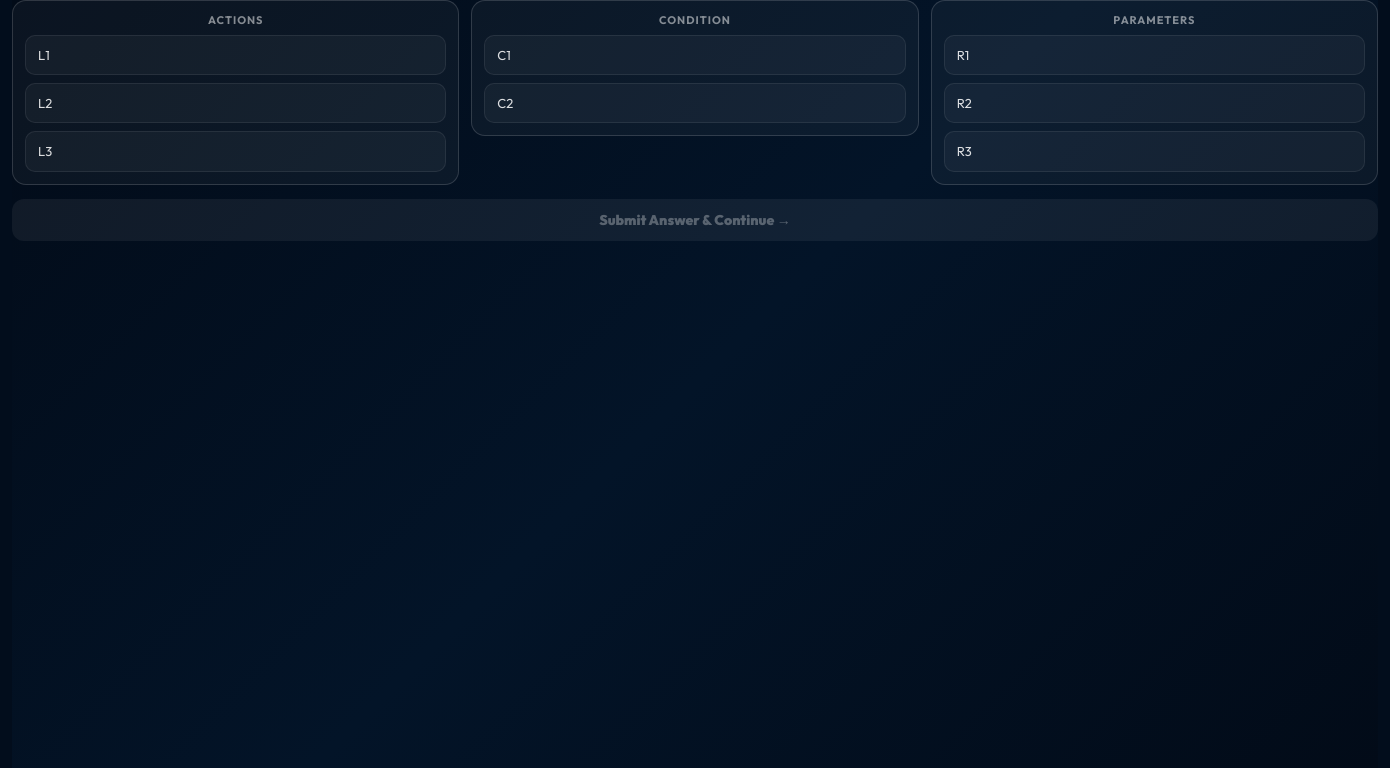
BowTieCard › Submit is disabled until all panels are filled to required count
Expected: the button "Submit Answer & Continue →" is disabled, 12,199 -> 1378,241
Click the button named "Actions : L1" at (44, 55), box 25,35 -> 446,75
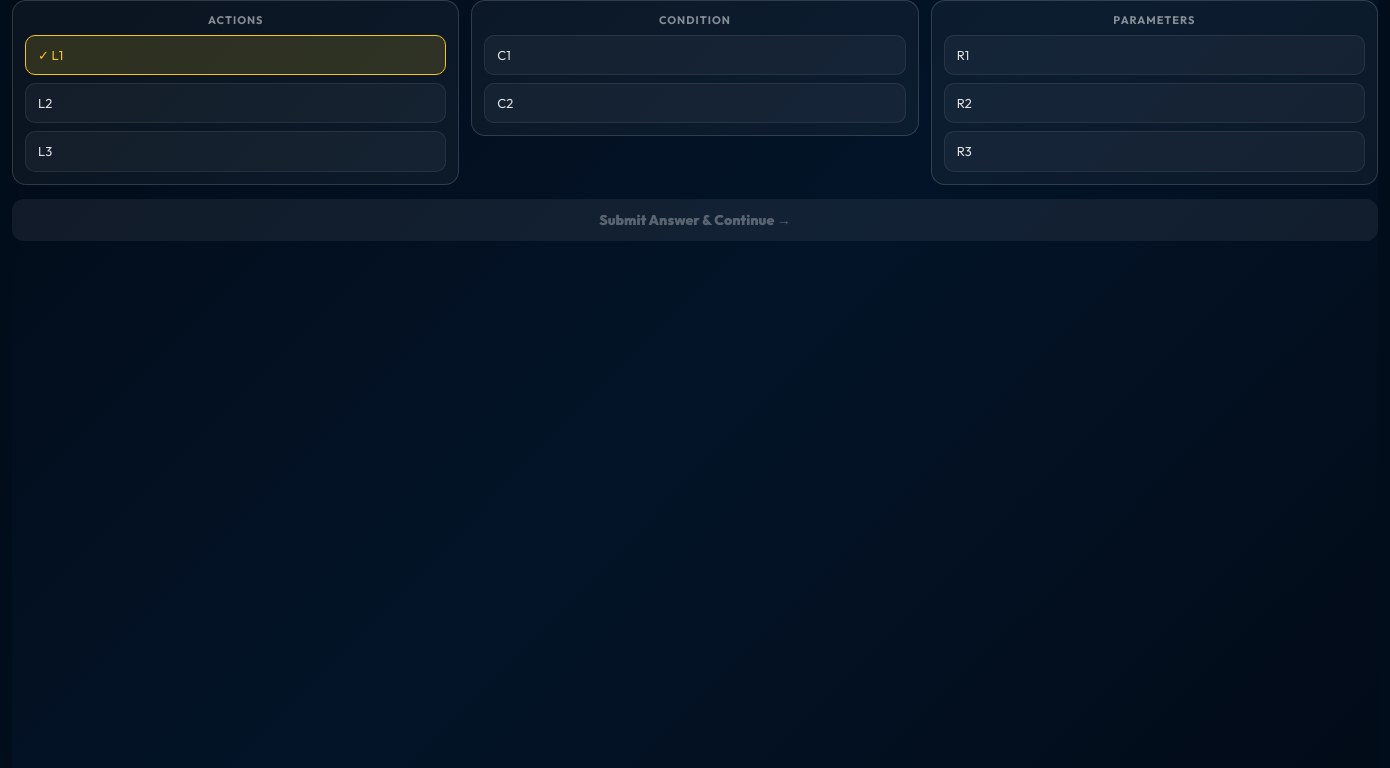
Click the button named "Actions : L3" at (45, 151), box 25,131 -> 446,172
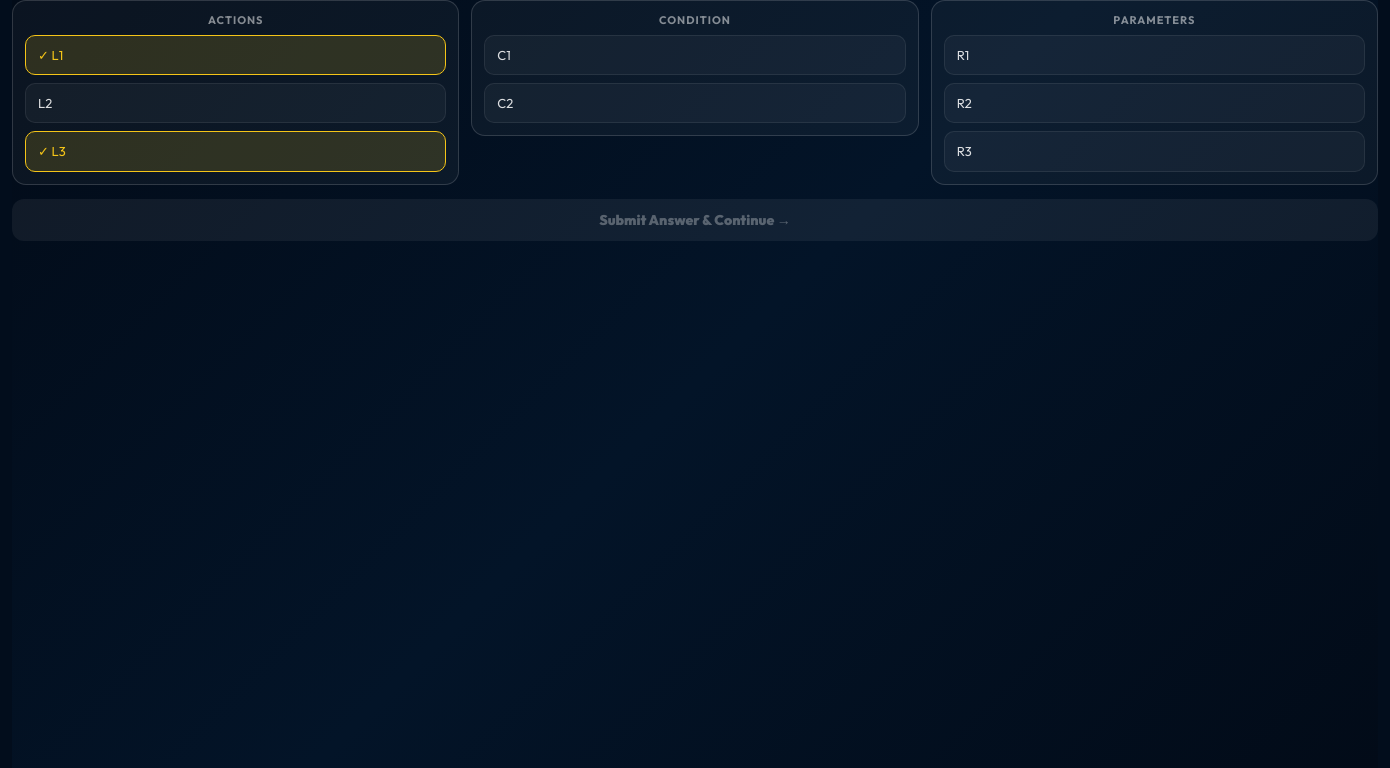
Click the button named "Condition : C2" at (505, 103), box 484,83 -> 906,123
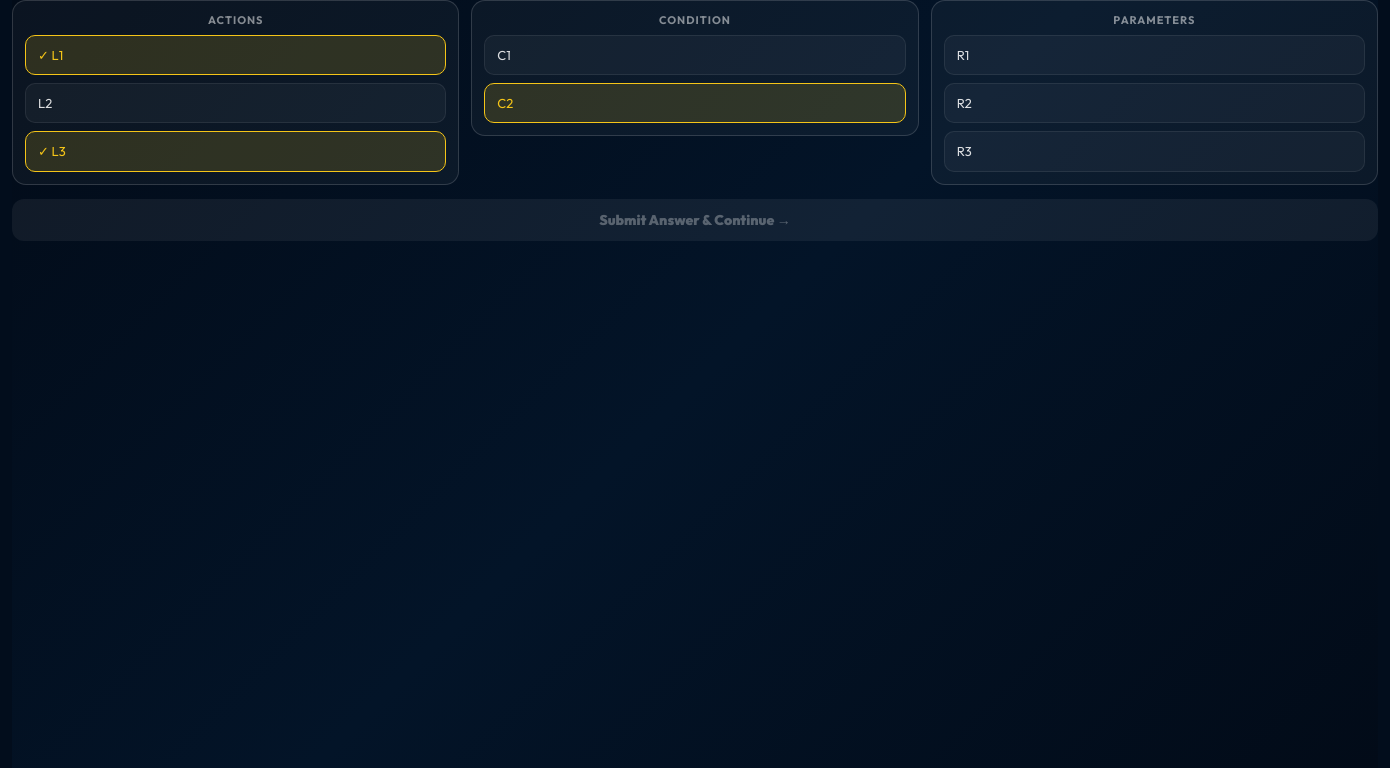
Click the button named "Parameters : R2" at (964, 103), box 944,83 -> 1365,123
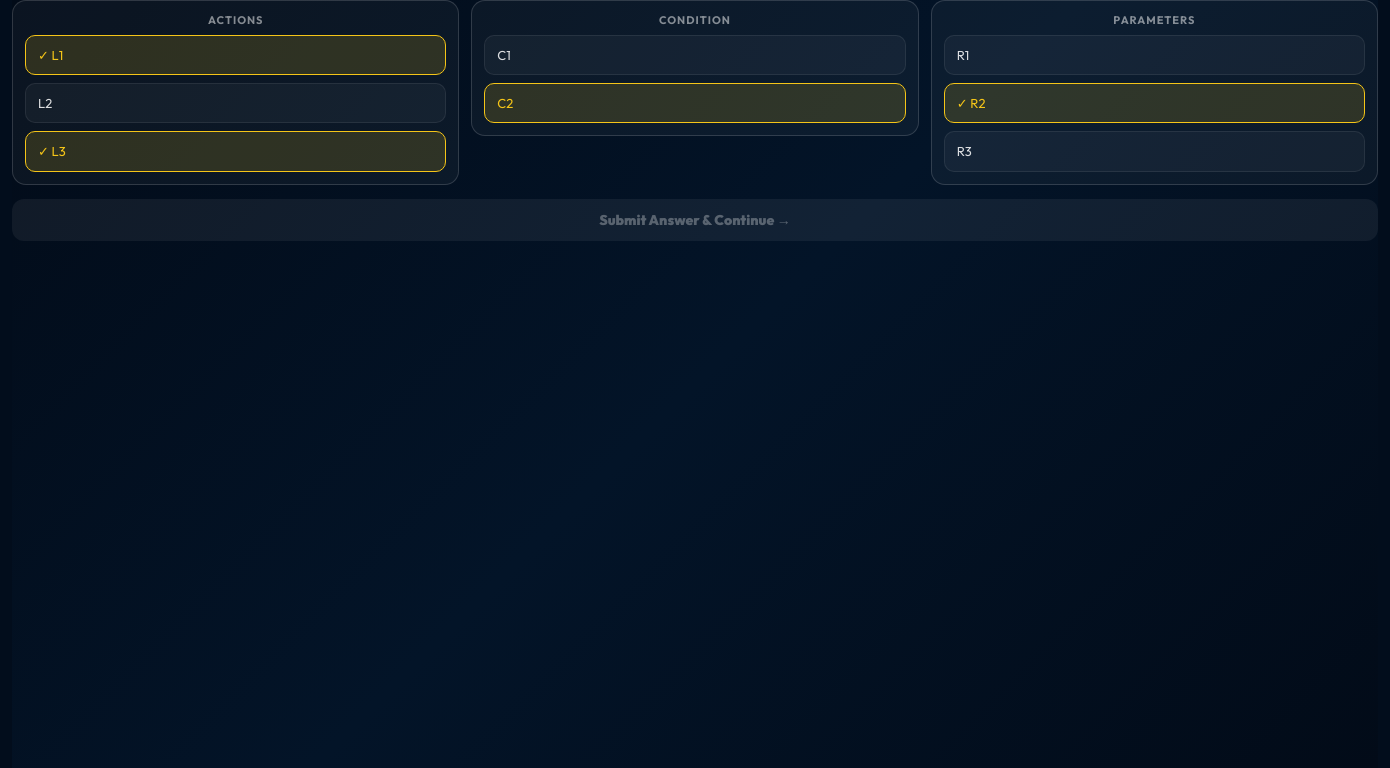
Expected: the button "Submit Answer & Continue →" is disabled, 12,199 -> 1378,241
Click the button named "Parameters : R3" at (964, 151), box 944,131 -> 1365,172
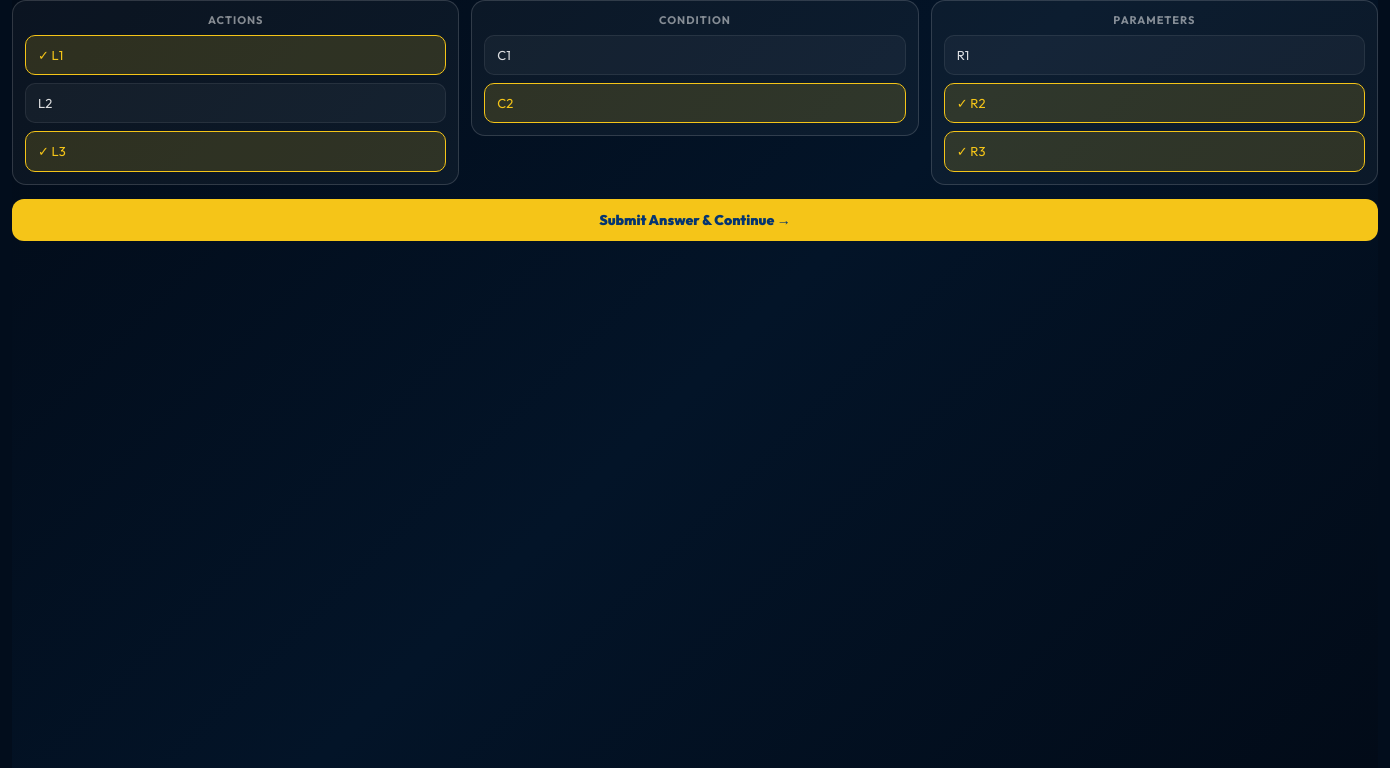
Expected: the button "Submit Answer & Continue →" is enabled, 12,199 -> 1378,241
